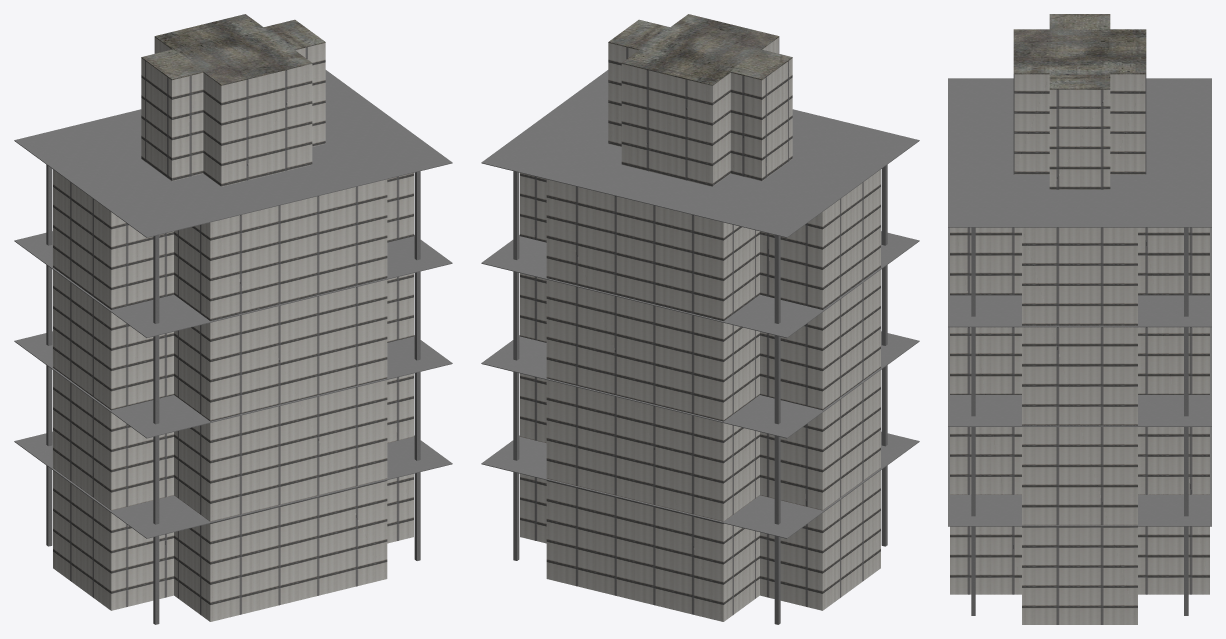
File: LOD01_Building_25stores_Office.obj
3 views of the same model, side by side, from view 1: azimuth 30°, elevation 25°; view 2: azimuth 150°, elevation 25°; view 3: azimuth 270°, elevation 25° (orthographic).
Parts seen in each view (by area): view 1: LOD01_Building_25stores_Office; view 2: LOD01_Building_25stores_Office; view 3: LOD01_Building_25stores_Office.
Boxes of the visible parts, x1,y1,x2,y2 form: LOD01_Building_25stores_Office: (14,14,452,624); LOD01_Building_25stores_Office: (481,14,919,624); LOD01_Building_25stores_Office: (948,14,1211,624).
Bounding box in the file's own units: 15.81 × 24.85 × 11.88.
